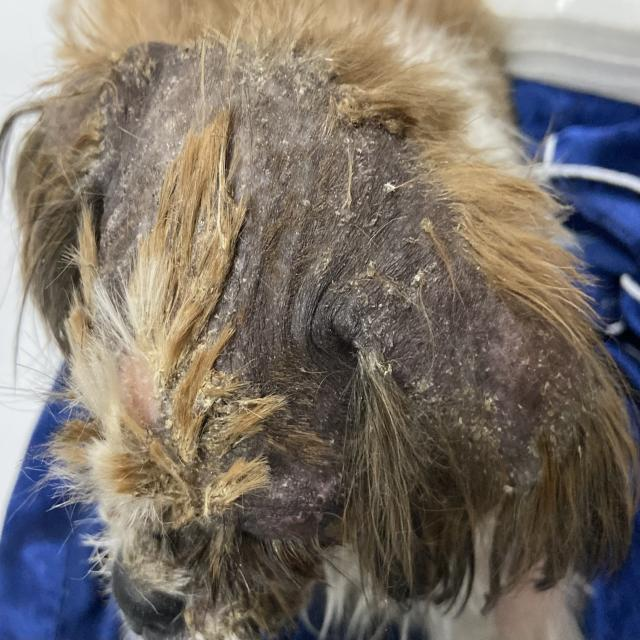demodicosis: (220, 74, 585, 530), (65, 57, 205, 274)
